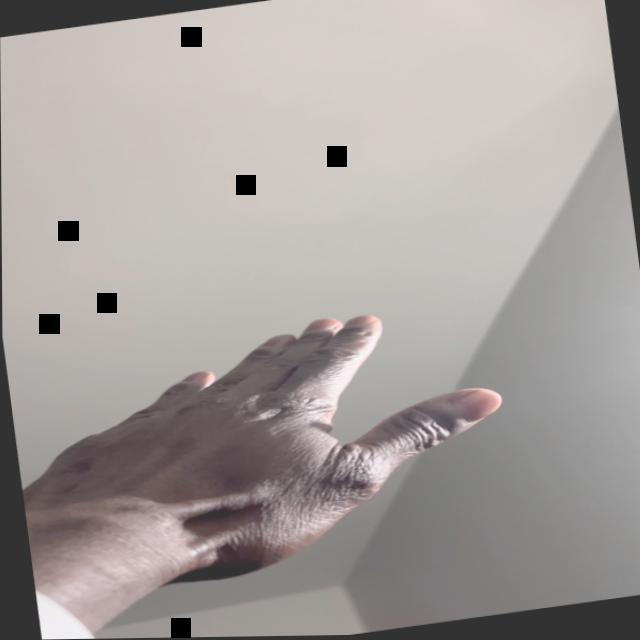Paper: (4, 290, 521, 606)
